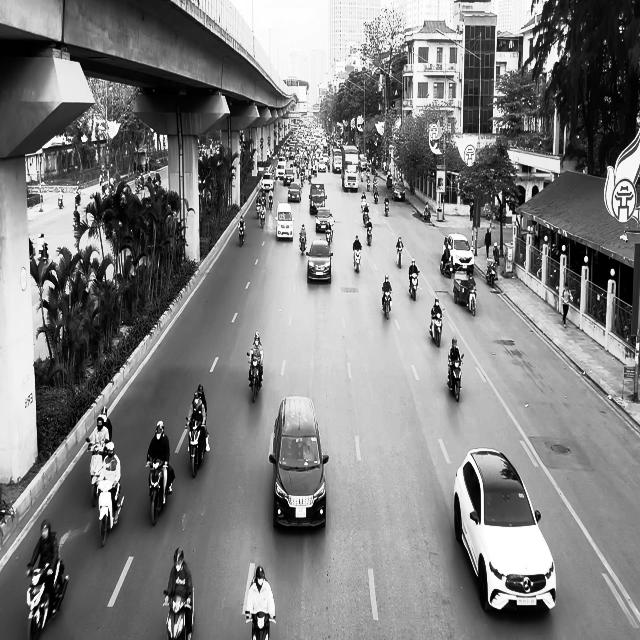bus: (341, 144, 360, 192)
car: (454, 447, 556, 613), (269, 395, 329, 529), (442, 232, 475, 274), (307, 240, 333, 284), (276, 203, 294, 240), (315, 207, 332, 232), (392, 181, 406, 201), (288, 182, 302, 202)
motorbike: (26, 560, 69, 640), (146, 457, 175, 526), (96, 478, 125, 547), (163, 588, 195, 640), (86, 437, 108, 507), (186, 417, 208, 478), (447, 352, 464, 402), (248, 352, 264, 402), (429, 307, 445, 347), (382, 287, 393, 319), (409, 270, 420, 300), (486, 259, 498, 286), (468, 284, 477, 316), (353, 245, 362, 273), (326, 221, 334, 246), (396, 245, 404, 268), (299, 233, 307, 254), (239, 223, 246, 246), (366, 221, 372, 245), (385, 197, 389, 216)
